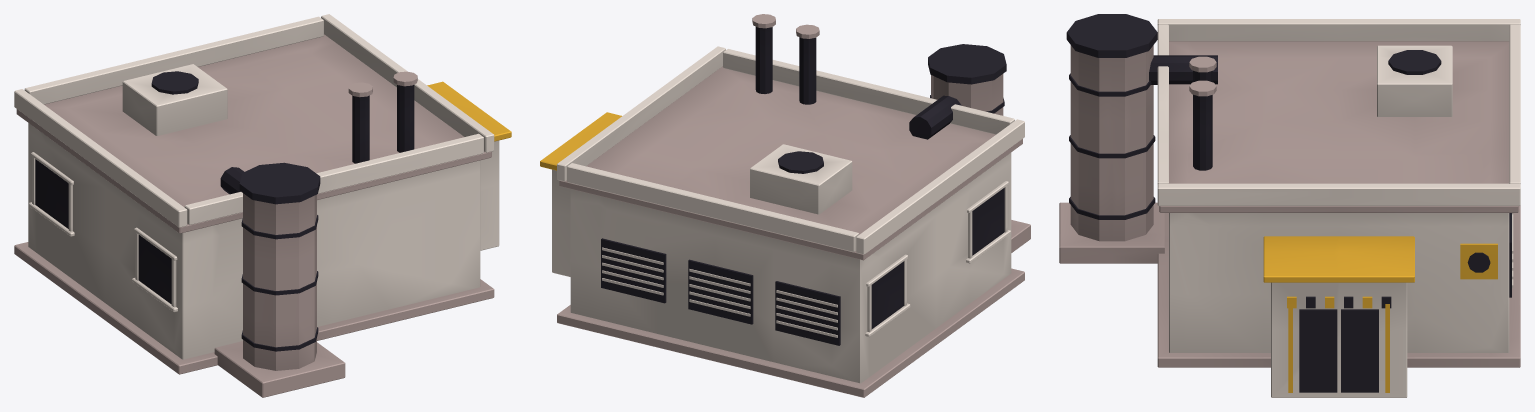
3 renders of one model, left to right at view 1: azimuth 30°, elevation 25°; view 2: azimuth 150°, elevation 25°; view 3: azimuth 270°, elevation 25°, orthographic. The views are drawn at different scales.
Parts seen in each view (by area): view 1: body_pal_picketWhite, body_pal_sidewalk, body_pal_uiDark, body_pal_schoolBusYellow; view 2: body_pal_picketWhite, body_pal_sidewalk, body_pal_uiDark, body_pal_schoolBusYellow; view 3: body_pal_sidewalk, body_pal_picketWhite, body_pal_uiDark, body_pal_schoolBusYellow.
Part boxes in pixels (<box>): body_pal_picketWhite: <box>14,14,499,359</box>; body_pal_sidewalk: <box>14,34,494,397</box>; body_pal_uiDark: <box>35,71,414,351</box>; body_pal_schoolBusYellow: <box>427,81,511,141</box>; body_pal_picketWhite: <box>552,46,1024,383</box>; body_pal_sidewalk: <box>557,14,1030,397</box>; body_pal_uiDark: <box>601,27,1006,345</box>; body_pal_schoolBusYellow: <box>540,112,621,170</box>; body_pal_sidewalk: <box>1059,41,1520,367</box>; body_pal_picketWhite: <box>1157,19,1520,397</box>; body_pal_uiDark: <box>1066,14,1511,392</box>; body_pal_schoolBusYellow: <box>1263,236,1497,392</box>.
Bounding box in the file's own units: 12.8 × 7.15 × 12.2.
